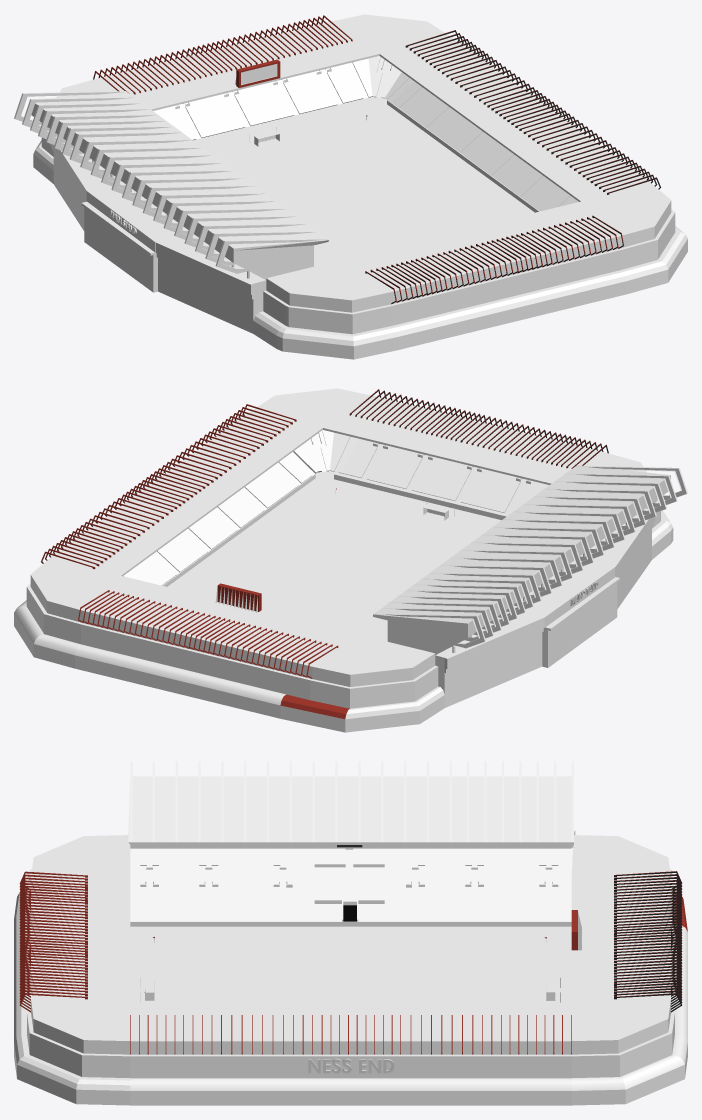
3 views of the same model, one above another, from view 1: azimuth 30°, elevation 25°; view 2: azimuth 150°, elevation 25°; view 3: azimuth 270°, elevation 25° (orthographic). The views are drawn at different scales.
Parts seen in each view (by area): view 1: Layer0_001, Group_001; view 2: Layer0_001, Group_001; view 3: Layer0_001, Group_001, NESS END_001.
Boxes of the visible parts, bbox=[...] form: Layer0_001: bbox=[14, 14, 687, 359]; Group_001: bbox=[205, 108, 519, 266]; Layer0_001: bbox=[14, 388, 687, 732]; Group_001: bbox=[182, 482, 497, 640]; Layer0_001: bbox=[14, 761, 687, 1105]; Group_001: bbox=[130, 934, 571, 1003]; NESS END_001: bbox=[308, 1058, 394, 1073].
Size of the model in its own units: 152151 by 32109 by 180638.
